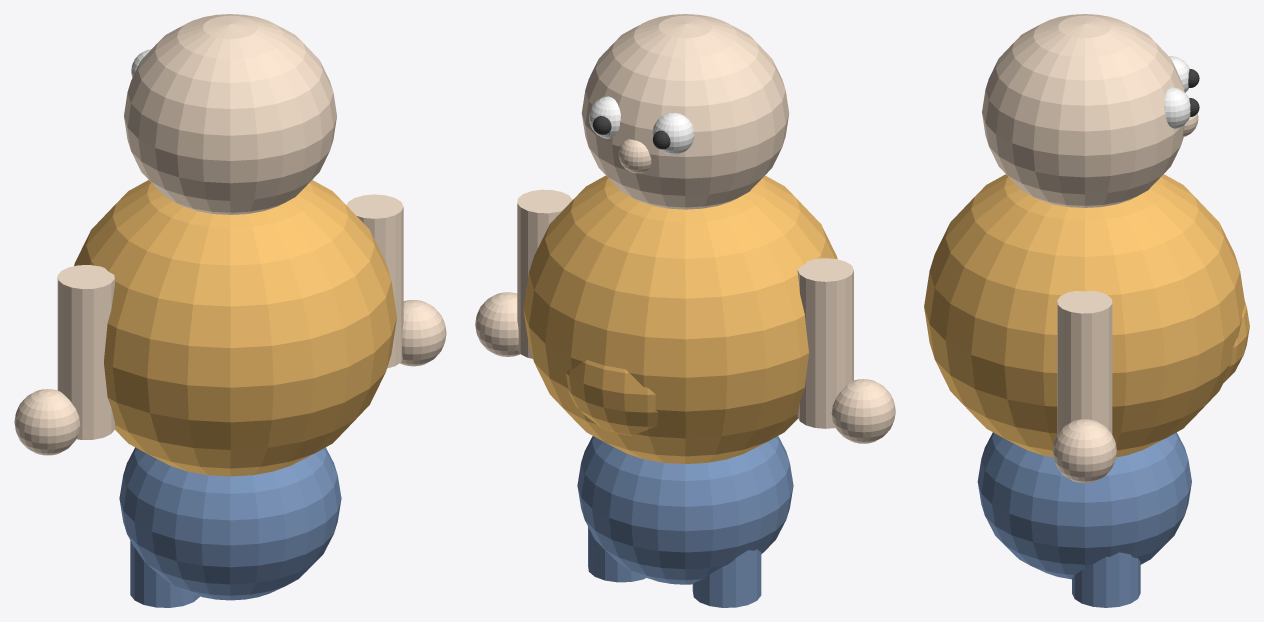
File: character.glb
3 renders of one model, left to right at view 1: azimuth 30°, elevation 25°; view 2: azimuth 150°, elevation 25°; view 3: azimuth 270°, elevation 25°, orthographic. The views are drawn at different scales.
Parts seen in each view (by area): view 1: Character; view 2: Character; view 3: Character.
Boxes of the visible parts, <box> form: Character: <box>14,14,446,607</box>; Character: <box>475,14,895,607</box>; Character: <box>924,14,1249,607</box>.
Bounding box in the file's own units: 2.2 × 2.81 × 1.52.
